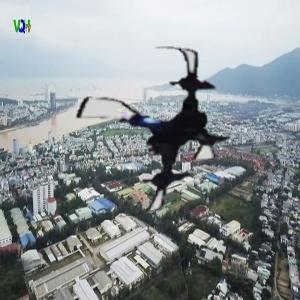drone: (62, 41, 243, 222)
